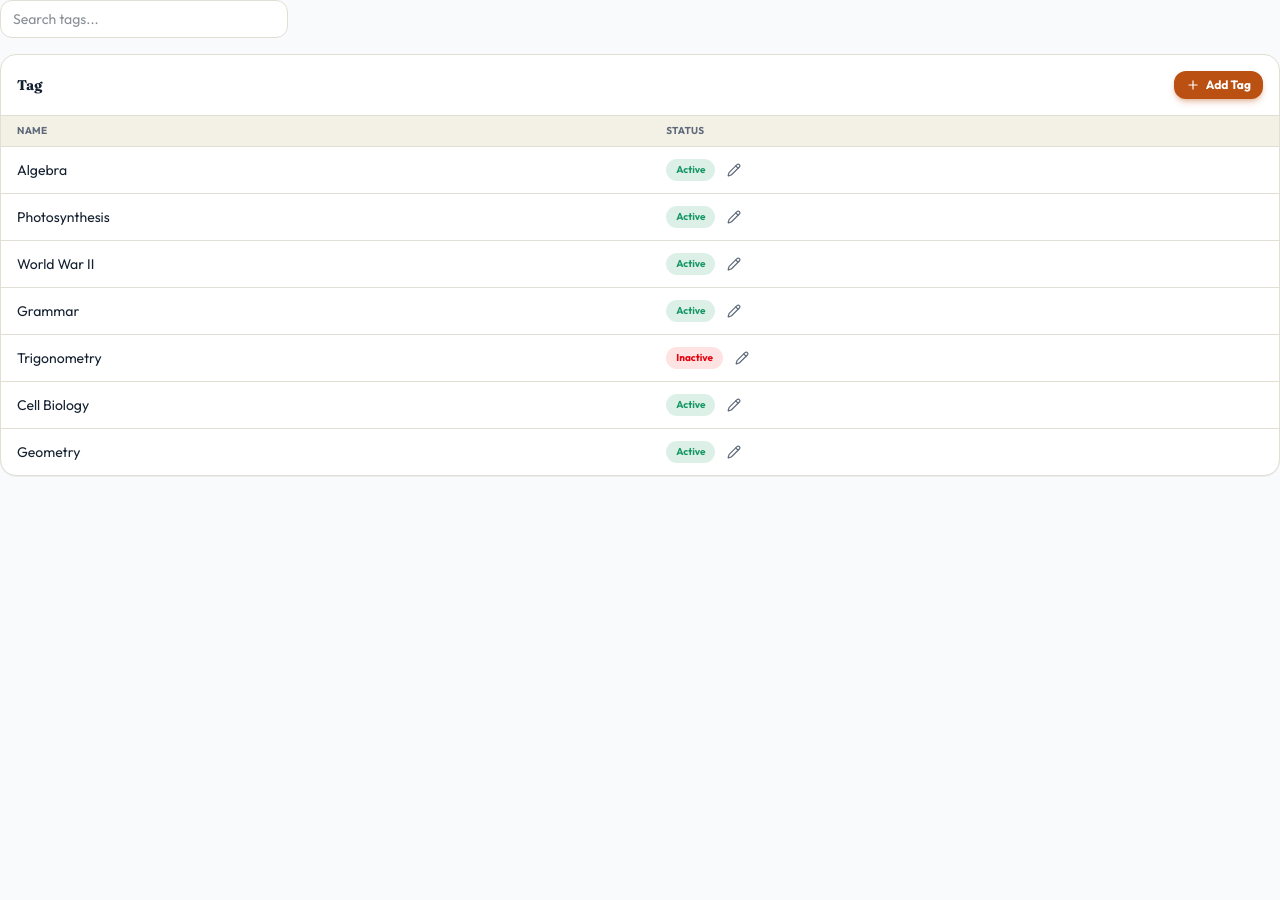
Test: TagManagement › rejects adding a tag whose name matches an existing tag case-insensitively, and does not add a row
This screenshot has width=1280, height=900.
Expected: the text "Algebra" is shown, [1, 147, 650, 194]
Click the button "Add Tag": (1218, 85) [1174, 71, 1263, 99]
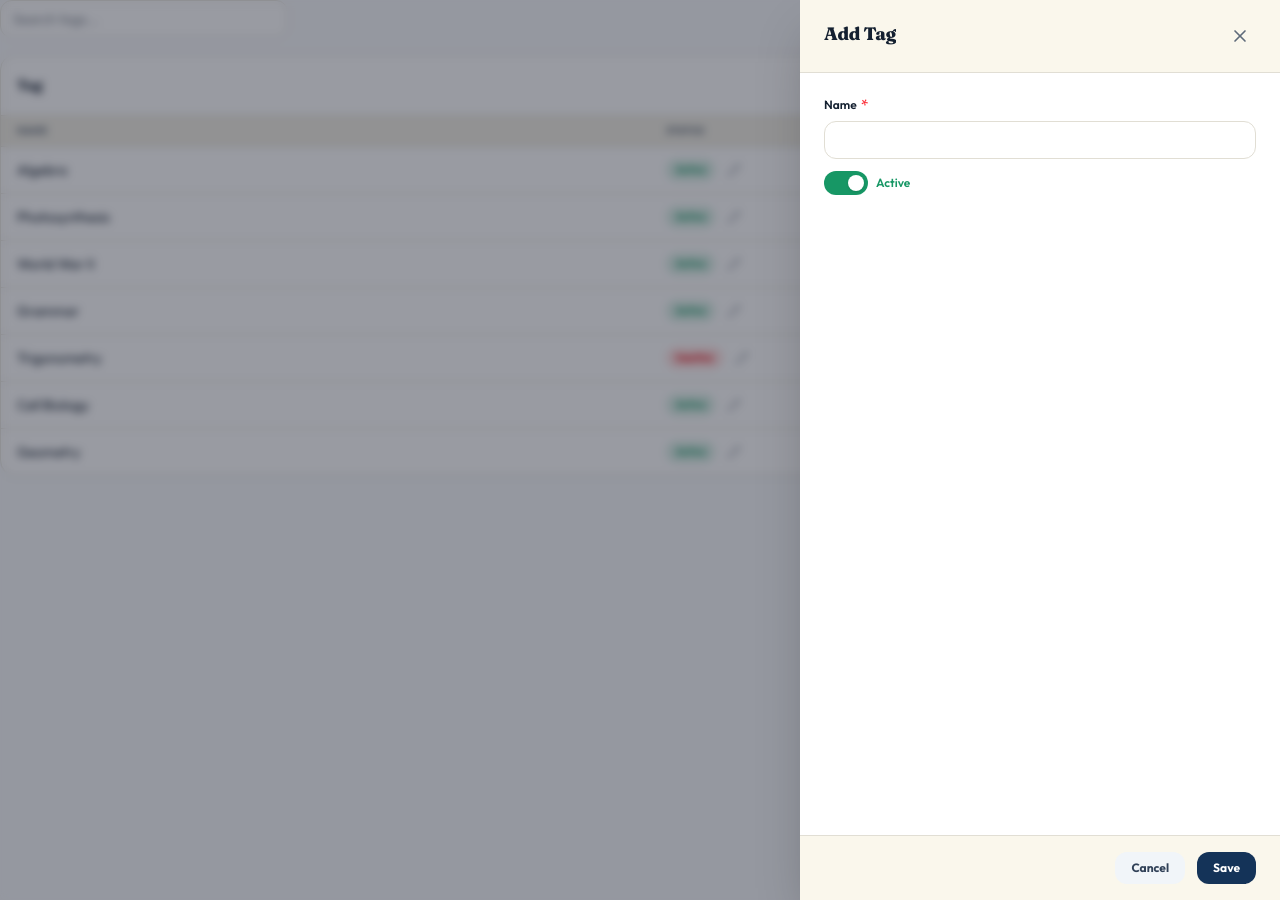
In the field labelled "Name": (1040, 140) [824, 121, 1256, 159], type "algebra"
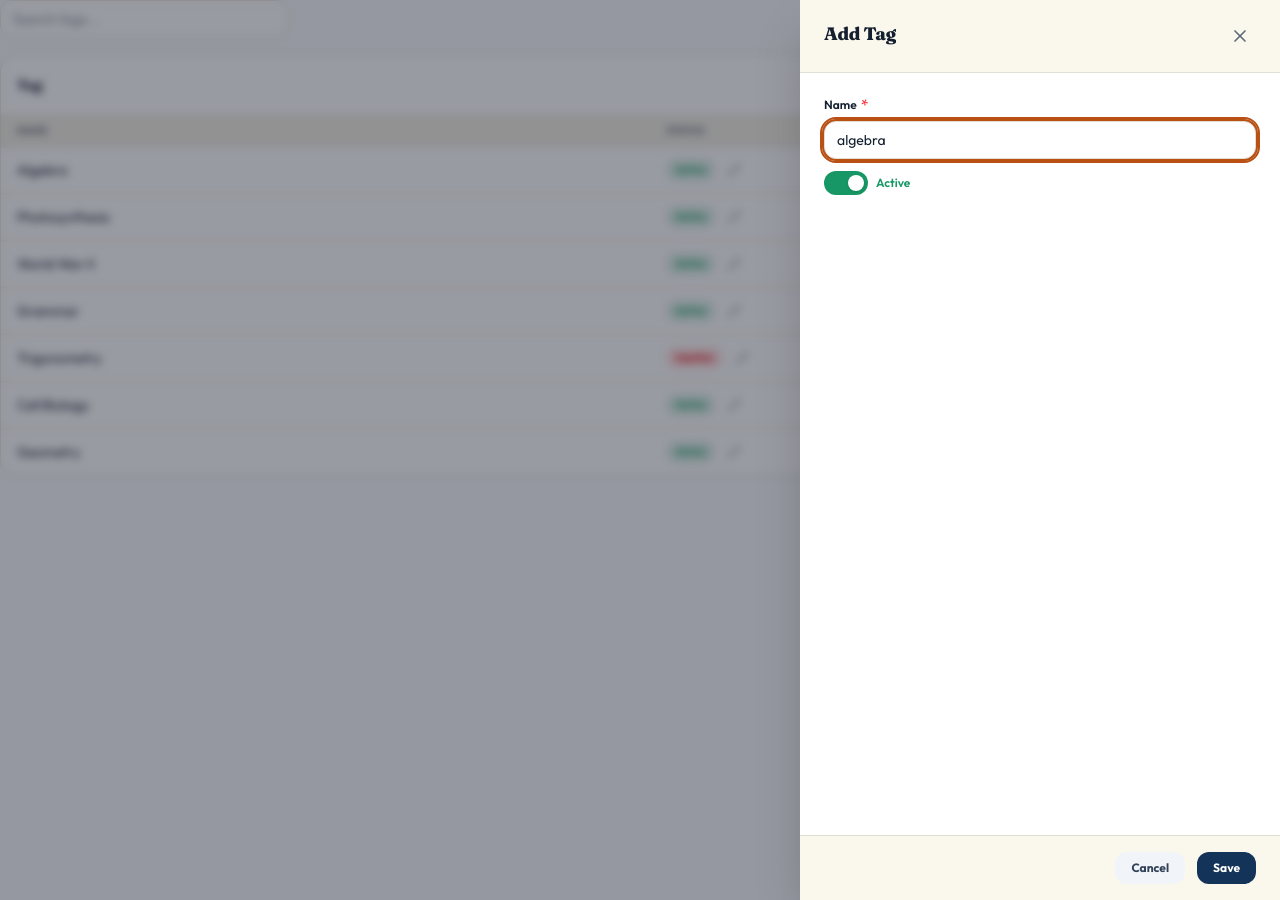
Click the button "Save": (1226, 868) [1197, 852, 1256, 884]
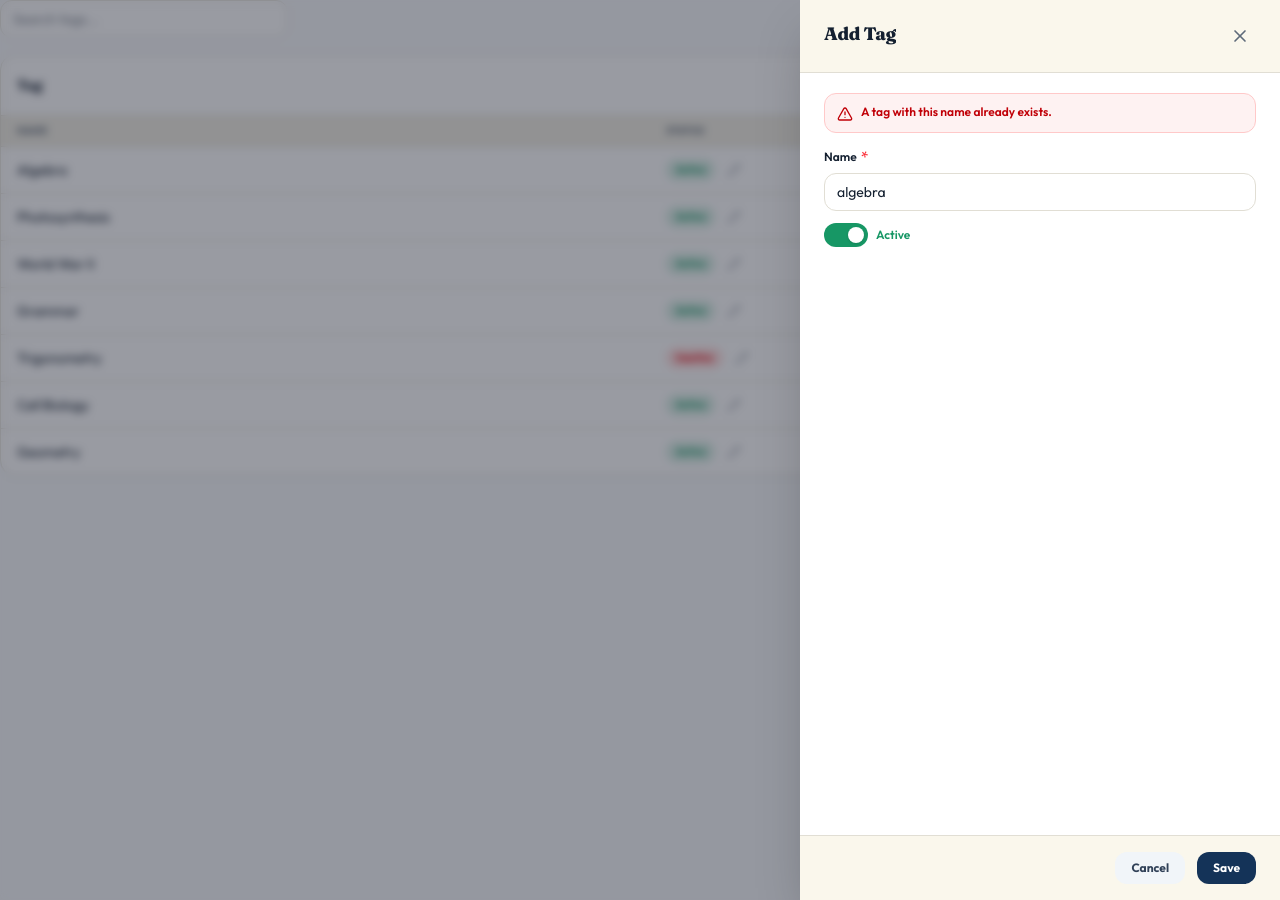
Expected: the text "Algebra" is shown once, [1, 147, 650, 194]
Now the text "A tag with this name already exists." is shown, box [861, 104, 1052, 120]
